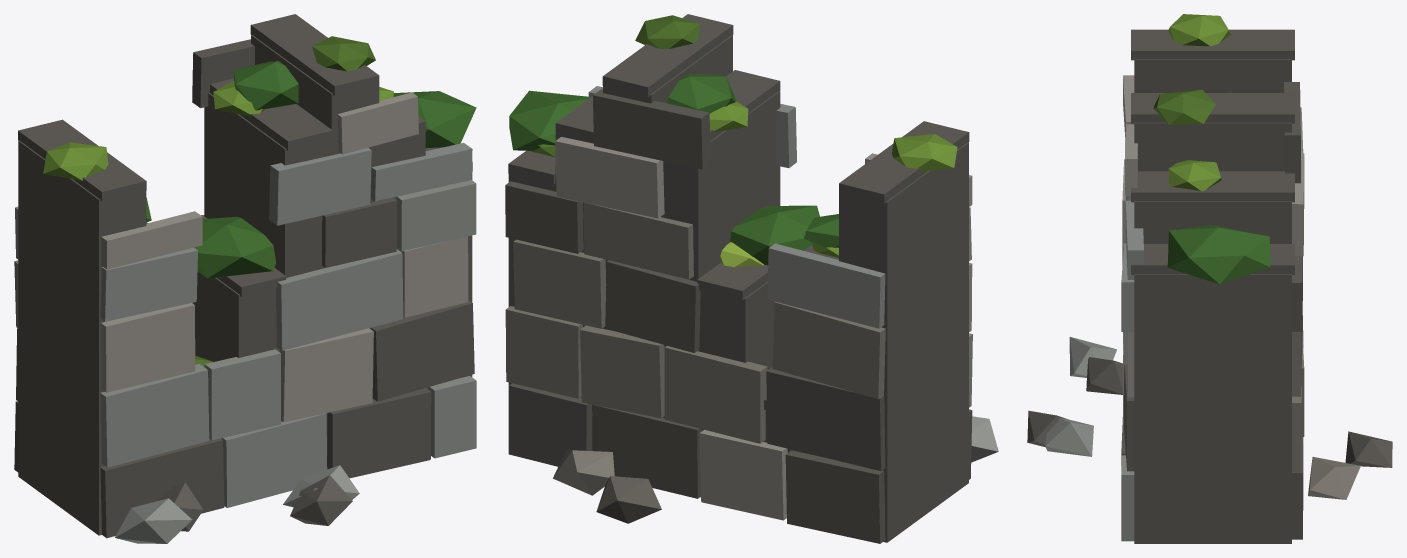
Rendered from forest_fort_ruin.glb.
The picture shows the model from 3 angles, left to right: view 1: azimuth 30°, elevation 25°; view 2: azimuth 150°, elevation 25°; view 3: azimuth 270°, elevation 25°; orthographic projection. The views are drawn at different scales.
Parts seen in each view (by area): view 1: forest_fort_ruin; view 2: forest_fort_ruin; view 3: forest_fort_ruin.
Boxes of the visible parts, left/top/right/bottom form: forest_fort_ruin: left=14, top=14, right=476, bottom=543; forest_fort_ruin: left=505, top=14, right=998, bottom=543; forest_fort_ruin: left=1027, top=14, right=1392, bottom=543.
Bounding box in the file's own units: 4.62 × 4.19 × 3.47.
